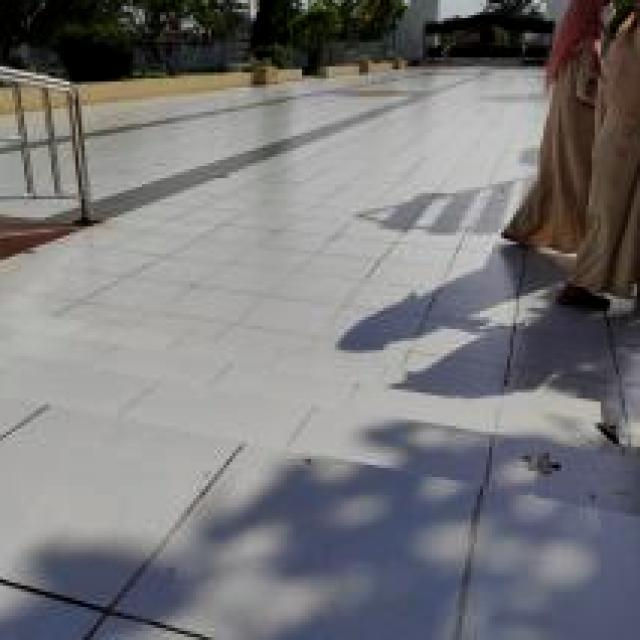downstair: (1, 303, 640, 508)
